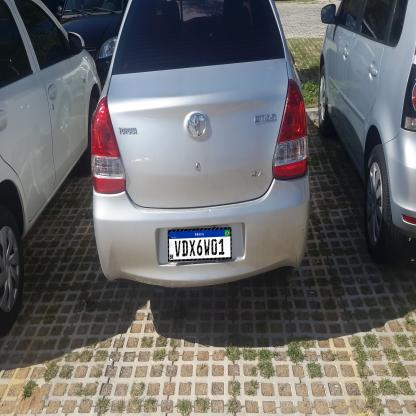PlacaM: (168, 227, 232, 262)
